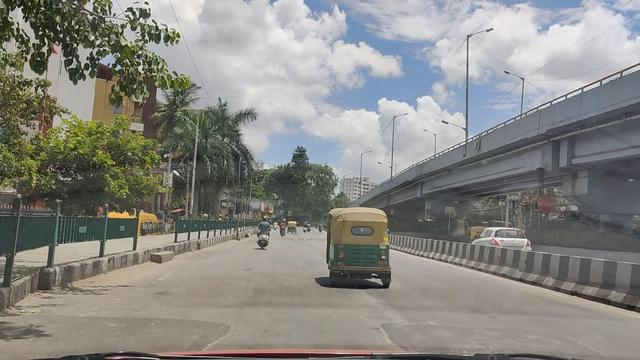LMV: (324, 206, 392, 285)
RoadDamages: (367, 306, 508, 354)
